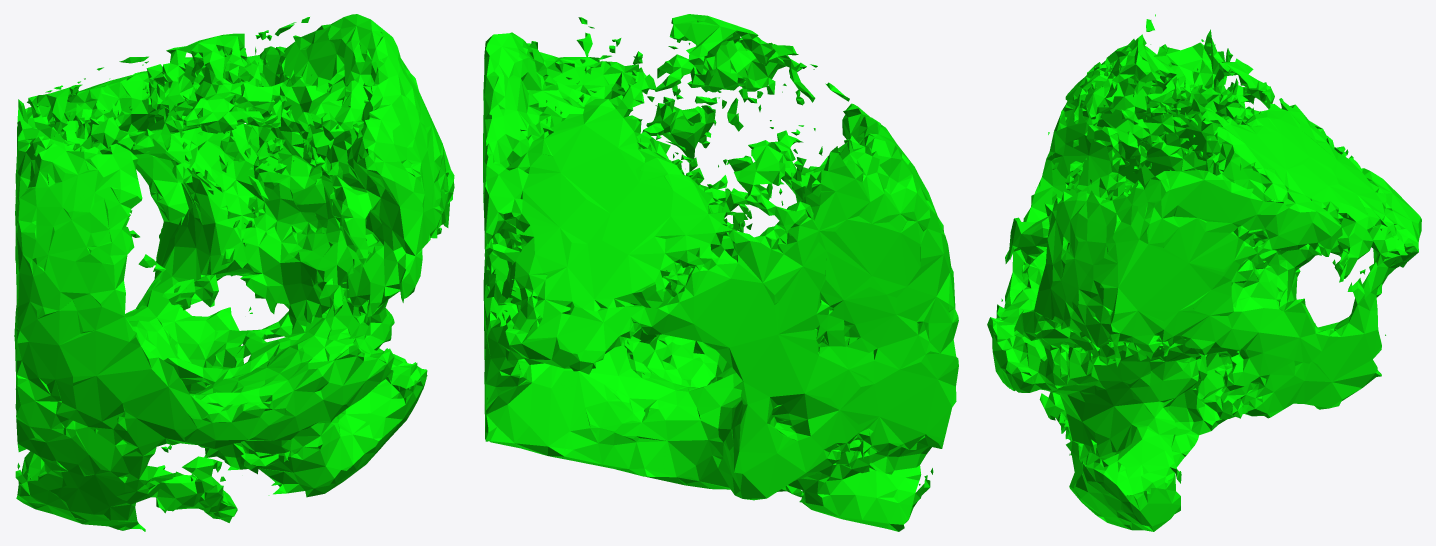
Rendered from B939XXXX-1_base_14.obj.
3 views of the same model, side by side, from view 1: azimuth 30°, elevation 25°; view 2: azimuth 150°, elevation 25°; view 3: azimuth 270°, elevation 25° (orthographic). The views are drawn at different scales.
Parts seen in each view (by area): view 1: 14_base; view 2: 14_base; view 3: 14_base.
Part boxes in pixels (x1=…): 14_base: x1=14, y1=14, x2=454, y2=531; 14_base: x1=483, y1=14, x2=958, y2=531; 14_base: x1=987, y1=14, x2=1421, y2=531.
Size of the model in its own units: 218 by 218 by 204.
